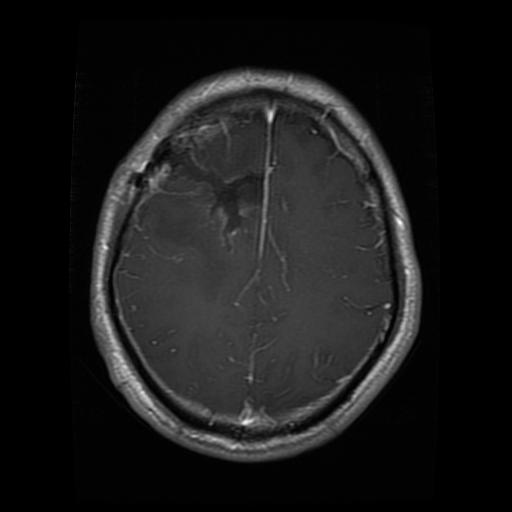Gliomia_tumour: (172, 146, 266, 252)
